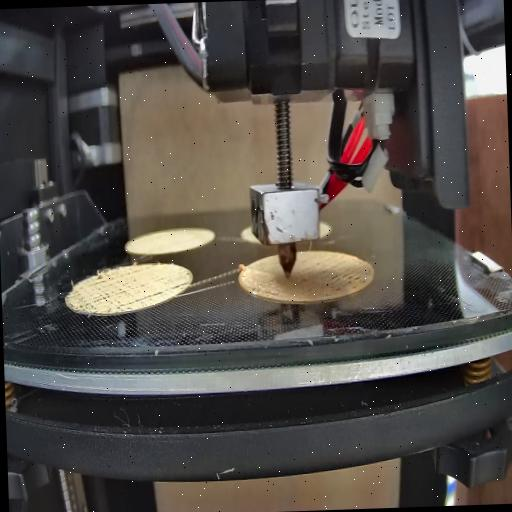under_extrusion: (70, 268, 166, 308), (304, 256, 368, 294), (248, 284, 282, 304), (170, 278, 188, 295)
